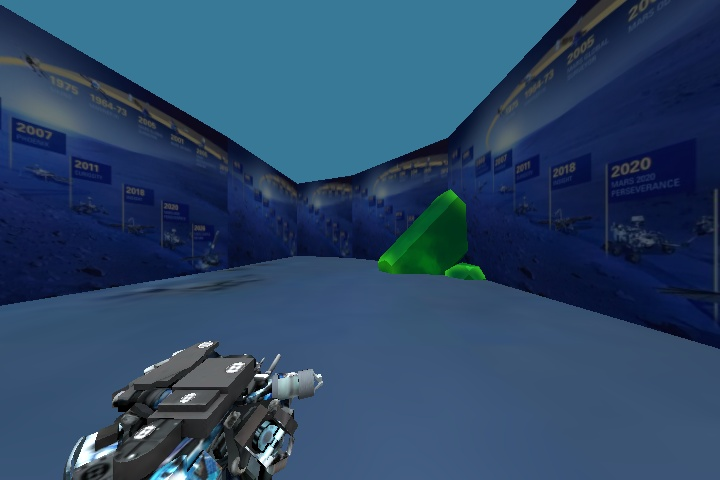green_crystal: (361, 178, 501, 289)
